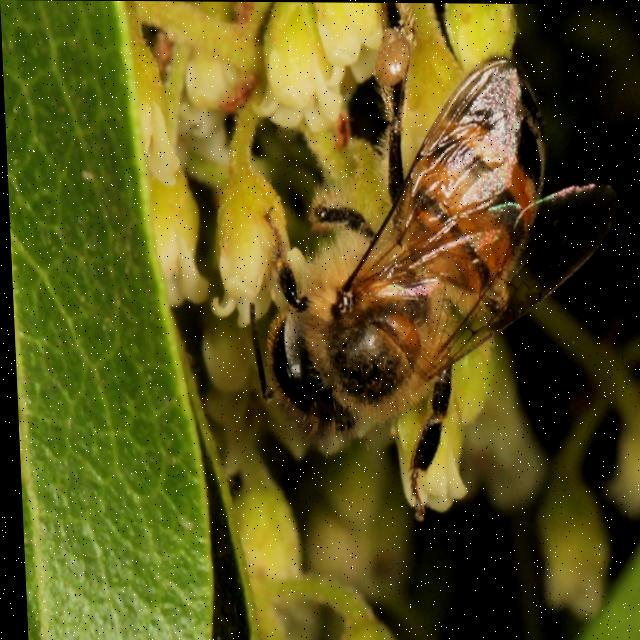Apis-mellifera-scutellata: (231, 25, 625, 539)
